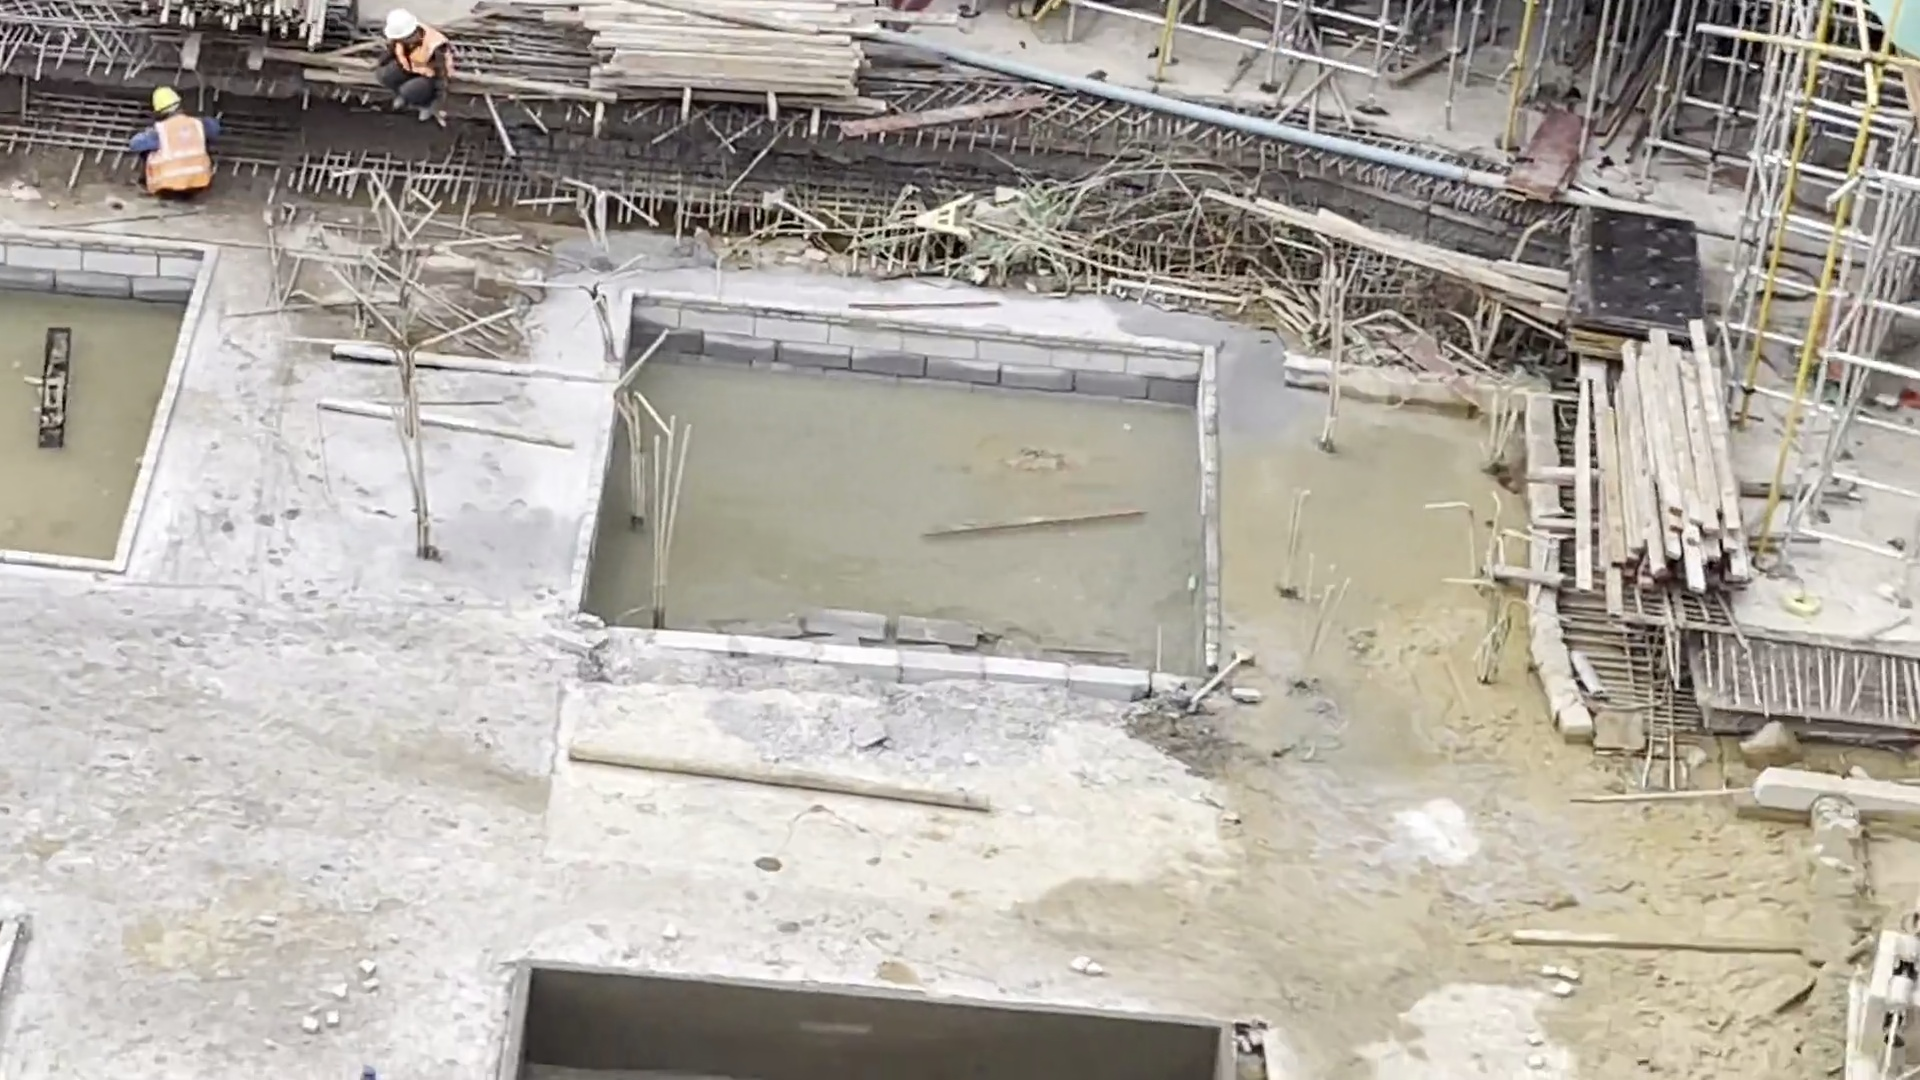helmet: (384, 7, 417, 40), (149, 87, 180, 113)
person: (131, 86, 222, 205), (368, 6, 454, 119)
vest: (144, 114, 215, 194), (394, 26, 455, 79)
